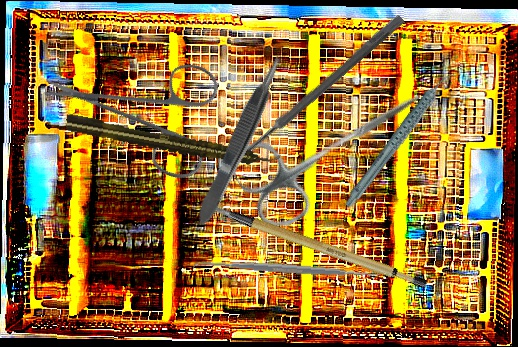Handpiece: (321, 69, 480, 210), (63, 111, 282, 174)
Iris Scissors: (38, 4, 253, 220), (224, 54, 442, 237)
Scalpel Handle: (202, 167, 431, 318)
Spatula Surgical: (192, 251, 387, 286)
Surgical Spoon: (219, 13, 405, 177)
Tissue Forceps: (188, 47, 293, 229)
